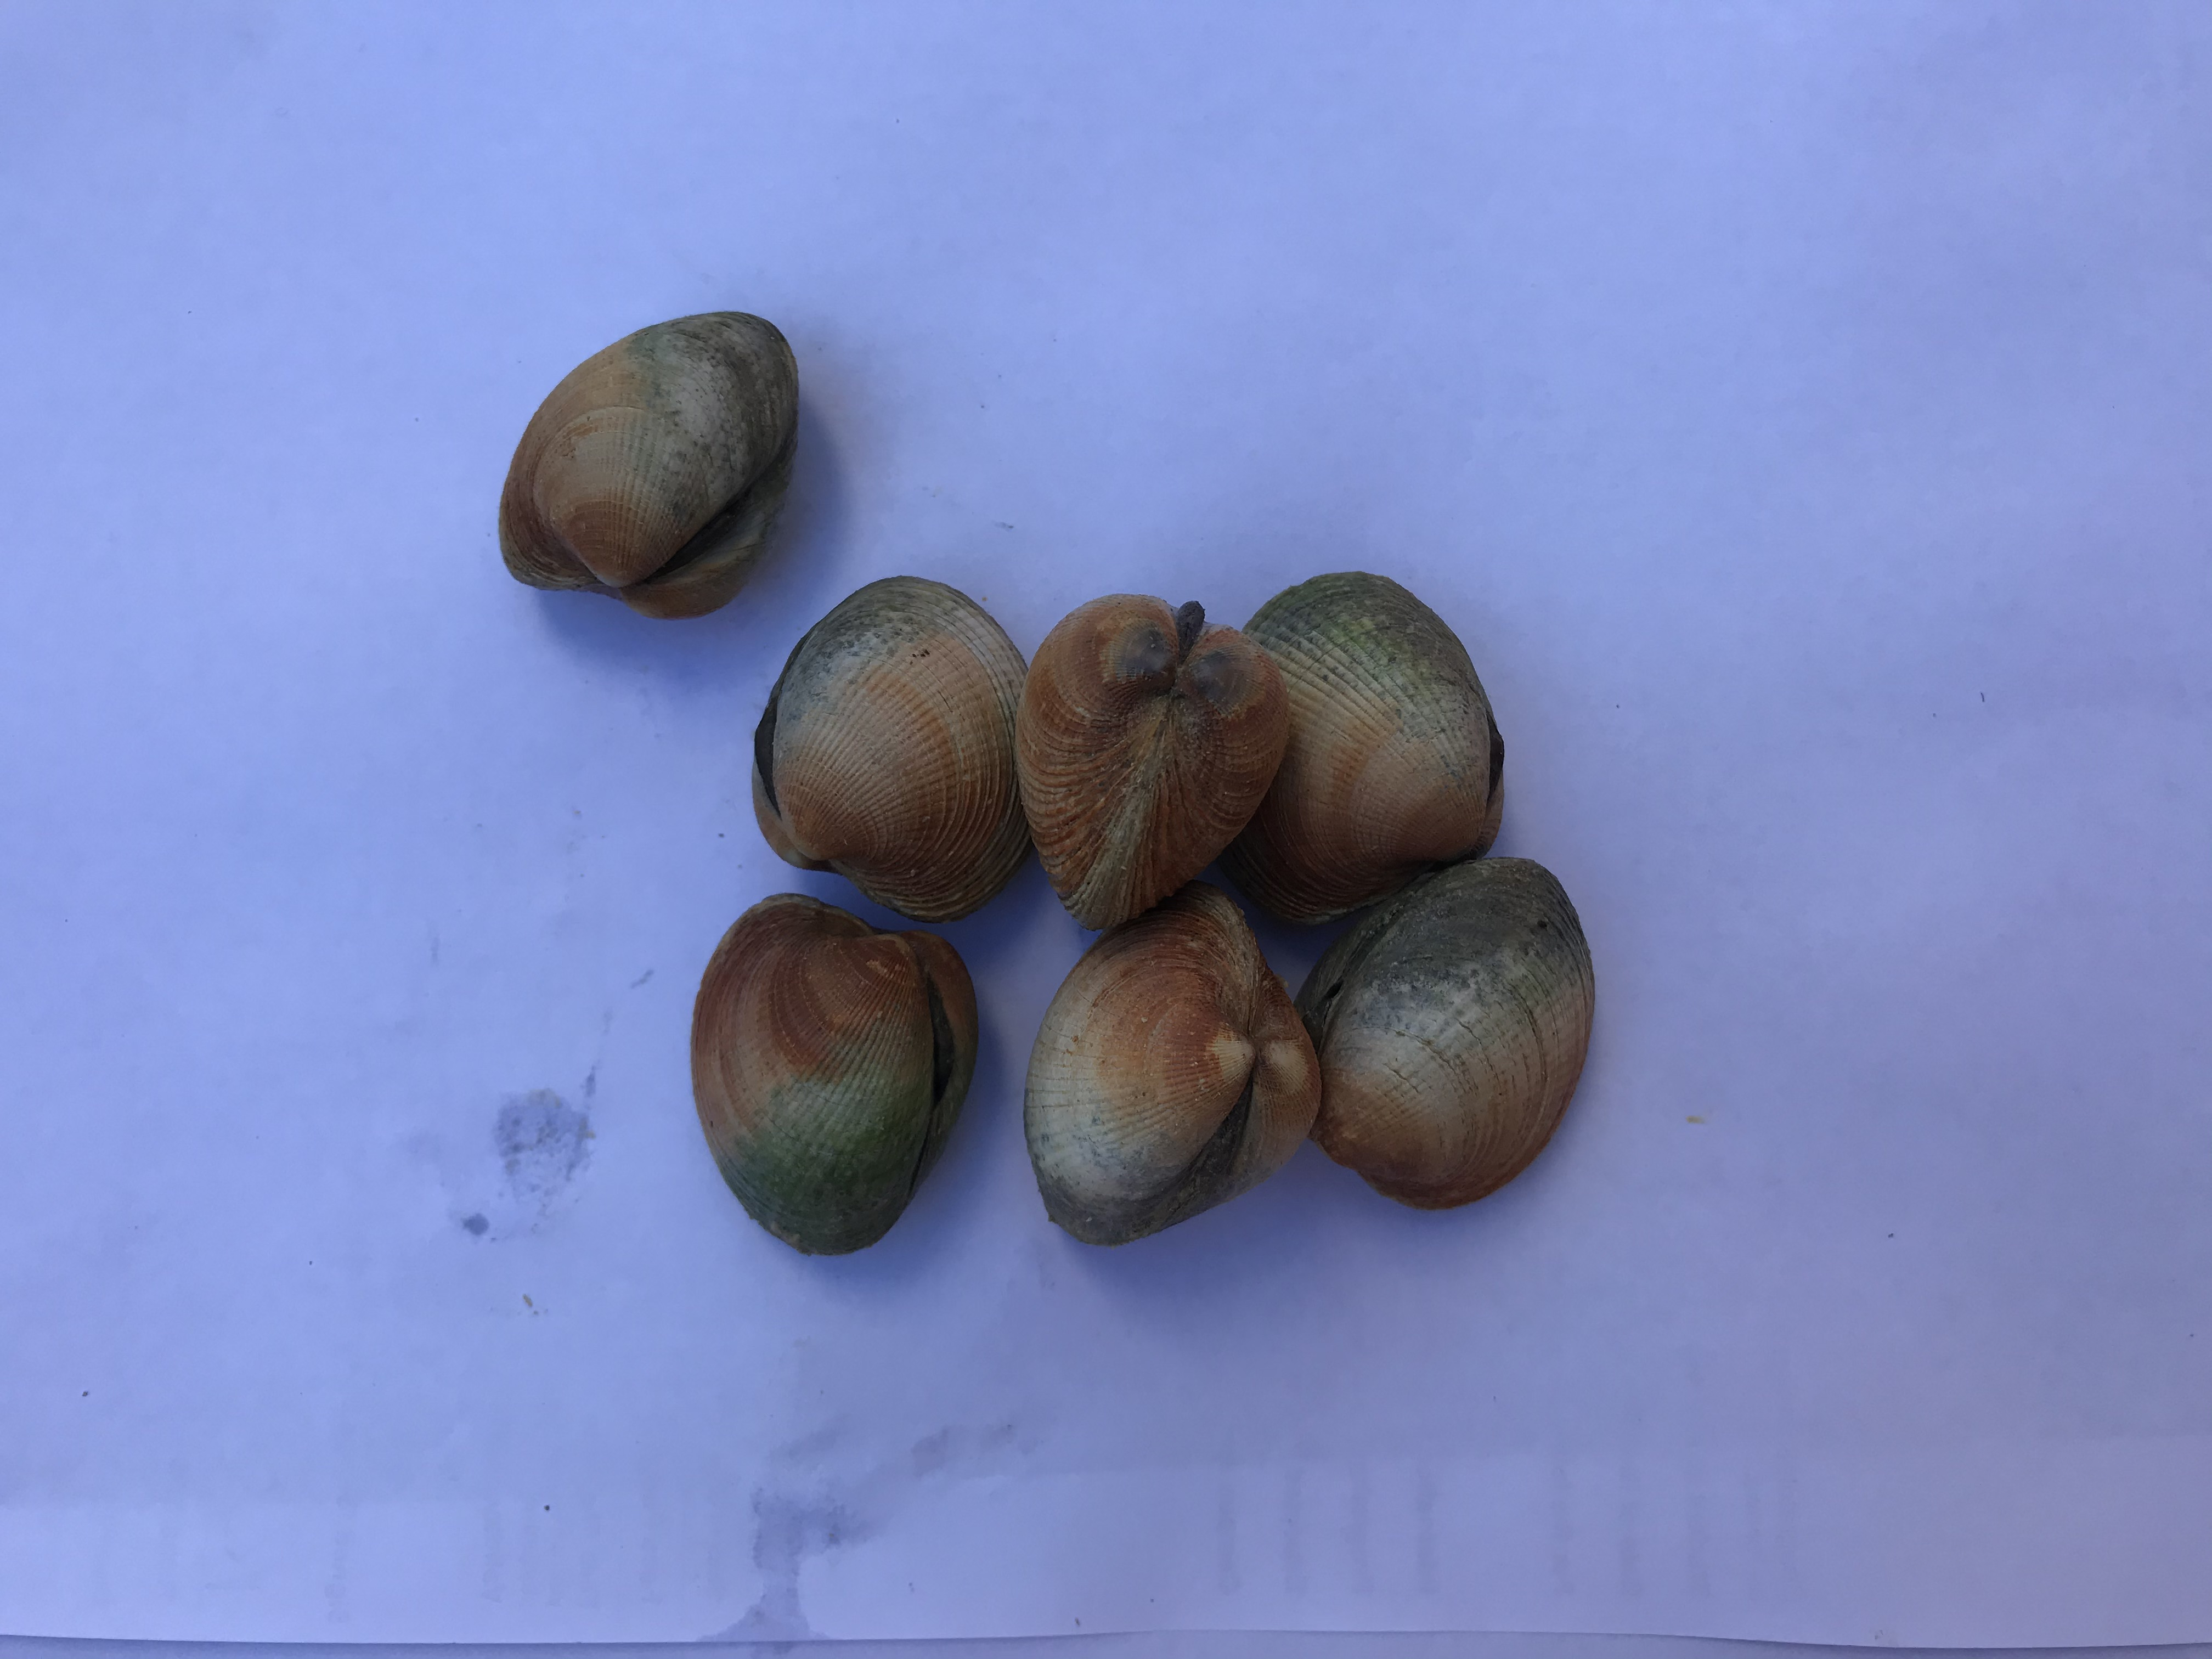cockle: (1017, 884, 1331, 1255), (1285, 852, 1609, 1209), (685, 889, 981, 1263), (751, 573, 1045, 924), (1017, 591, 1299, 939), (1237, 570, 1508, 931), (495, 308, 805, 622)
